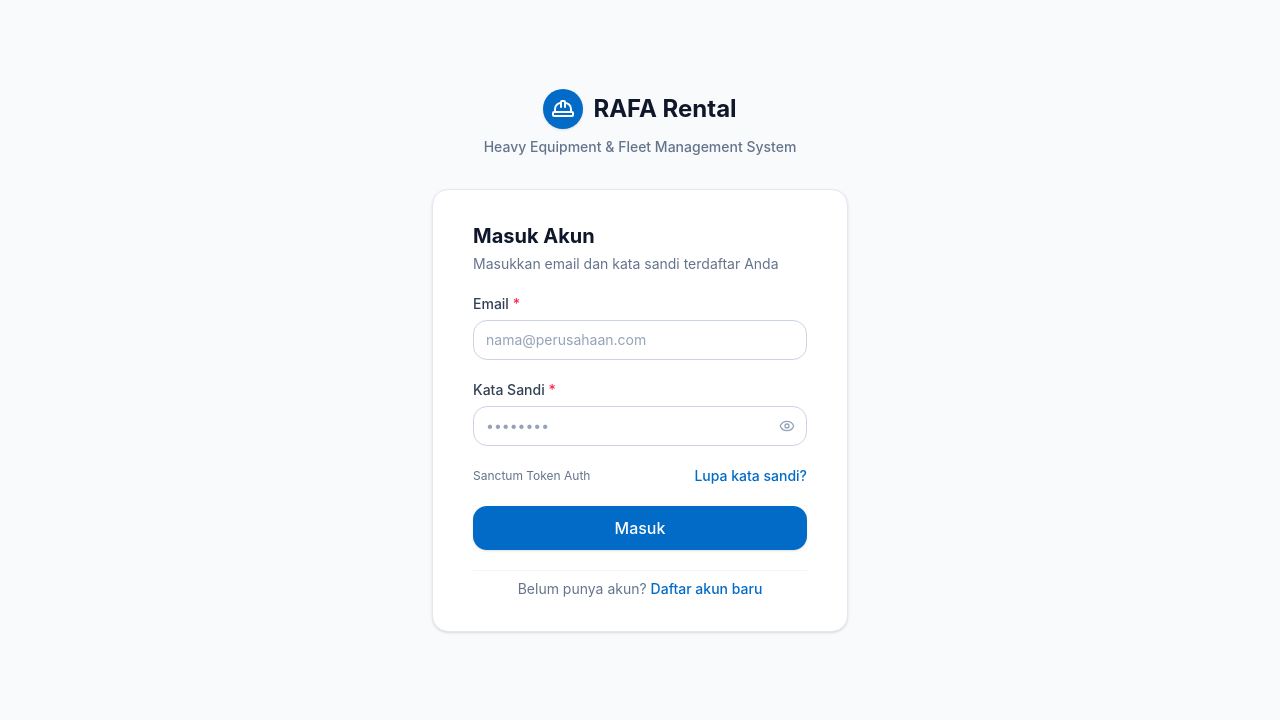
Frontend End-to-End Authentication Journey › owner login redirects directly to Executive Dashboard (/owner)
The image size is (1280, 720).
Type "owner@rafarental.com" into the field labelled "Email *" at (640, 340), box [473,320,807,360]
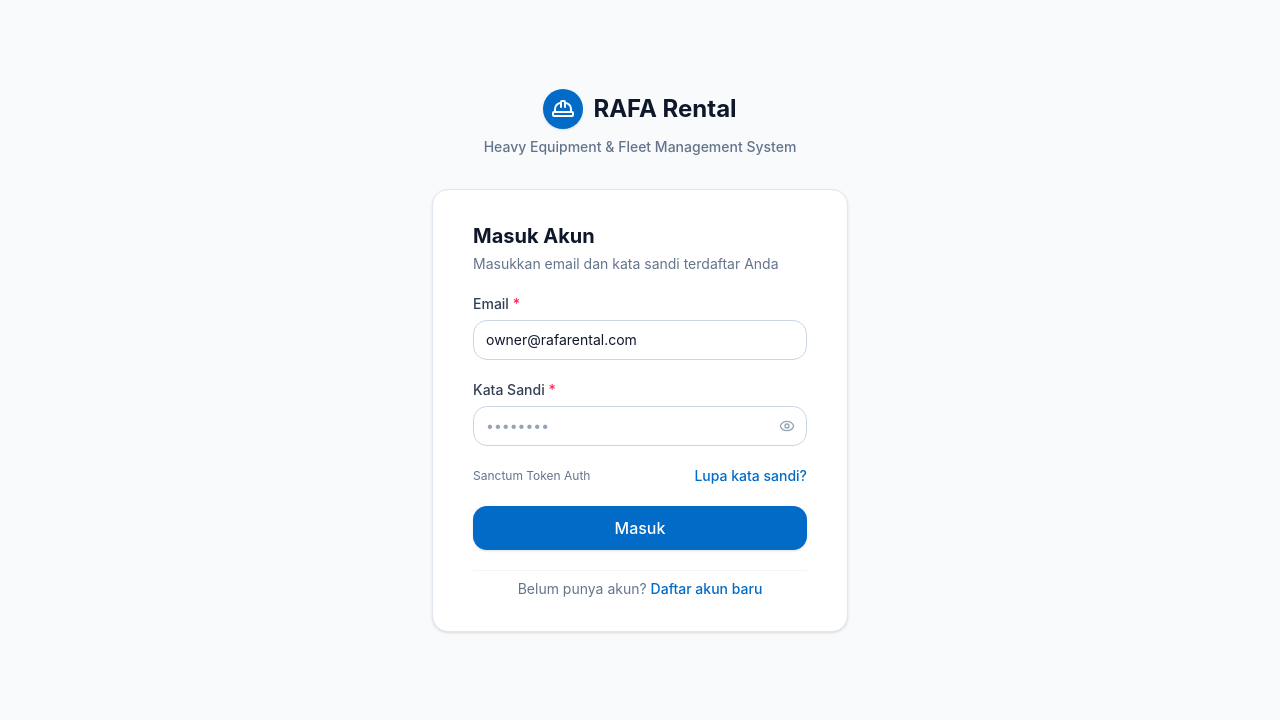
Type "password123" into the password field labelled "Kata Sandi *" at (640, 426), box [473,406,807,446]
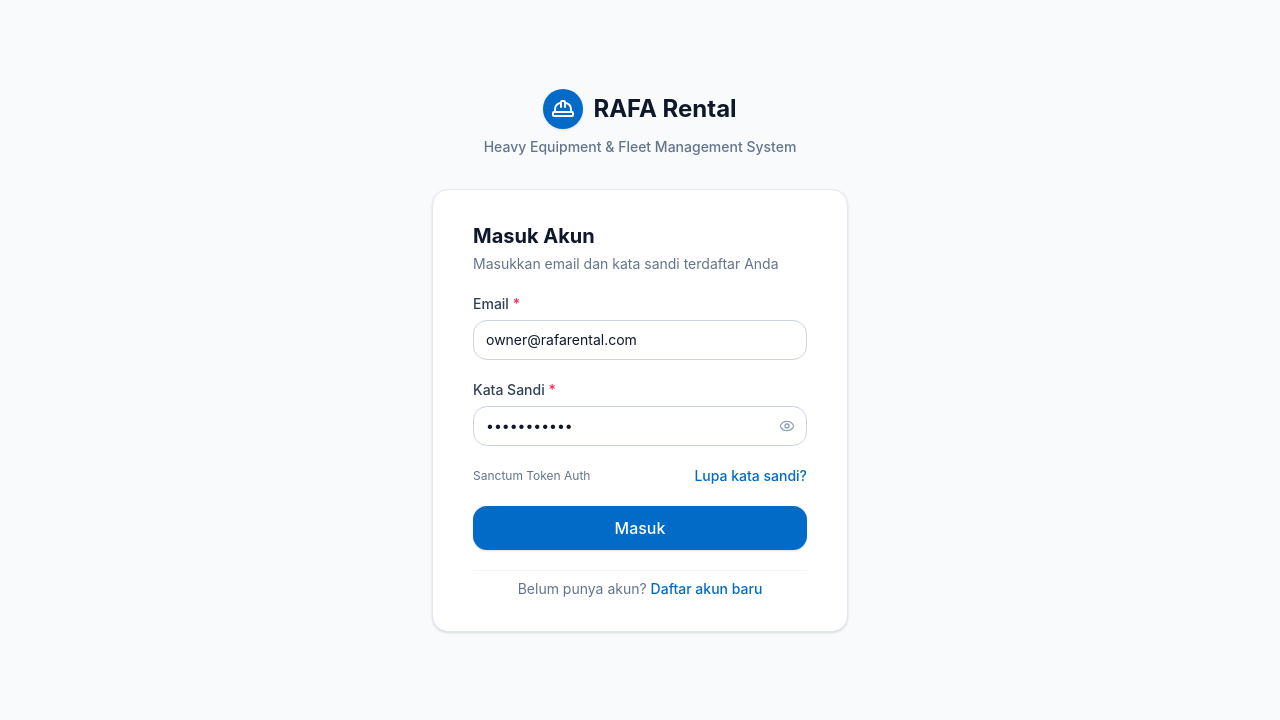
Click the button "Masuk" at (640, 528), box [473,506,807,550]
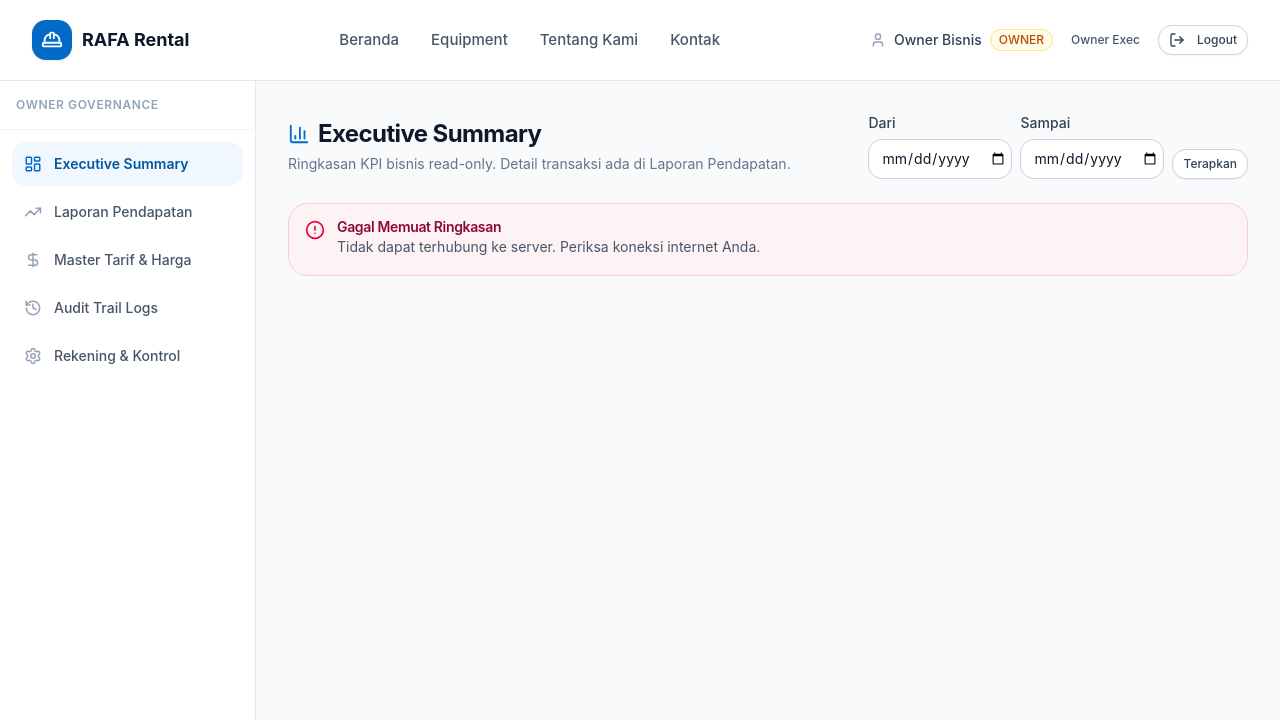
Result: the heading "Executive Summary" is shown at [288,119,541,148]
Result: the text "Owner Bisnis" is shown at [894,30,982,50]
Result: the text "OWNER" is shown at [990,29,1053,51]
